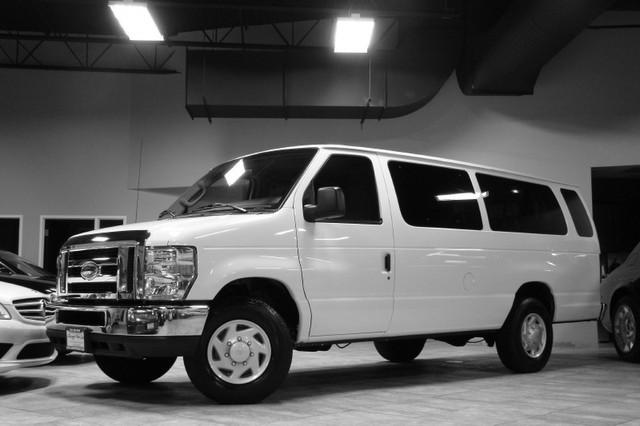car: (56, 143, 600, 401)
